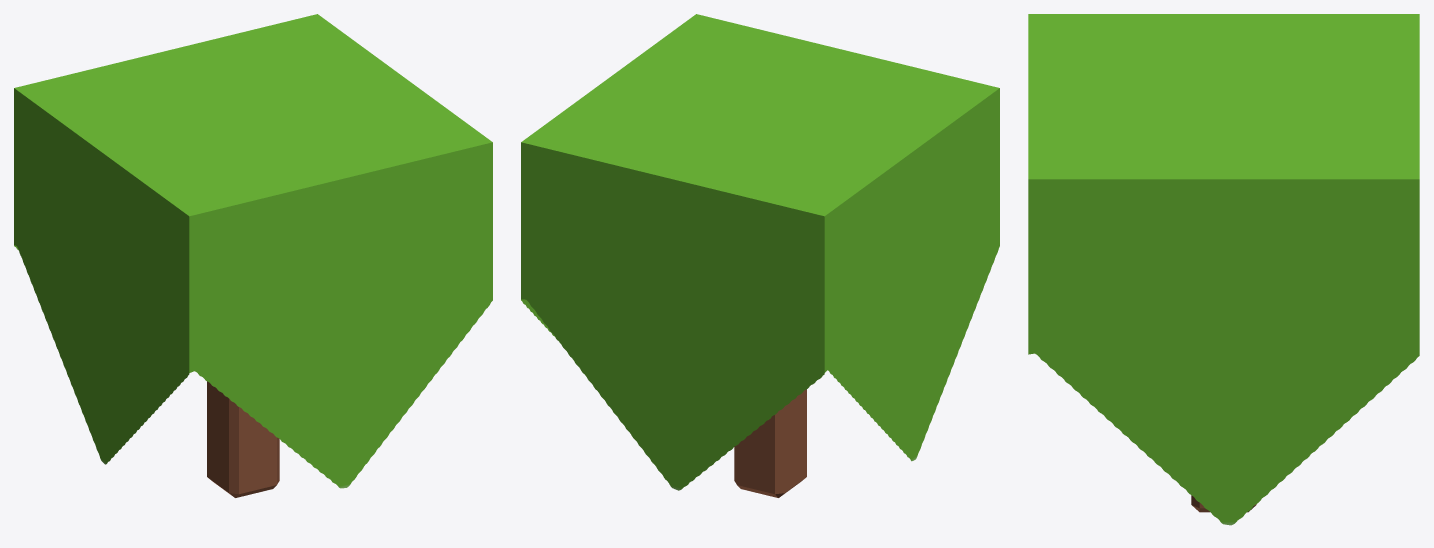
Rendered from Bush 1.fbx.
3 views of the same model, side by side, from view 1: azimuth 30°, elevation 25°; view 2: azimuth 150°, elevation 25°; view 3: azimuth 270°, elevation 25° (orthographic). The views are drawn at different scales.
Visible parts, largest first — view 1: Bush_1, Trunk; view 2: Bush_1, Trunk; view 3: Bush_1.
Boxes of the visible parts, box(x1,y1,x2,y2) form: Bush_1: box(14, 14, 492, 488); Trunk: box(207, 381, 279, 497); Bush_1: box(521, 14, 999, 490); Trunk: box(734, 389, 806, 497); Bush_1: box(1028, 14, 1419, 525).
Size of the model in its own units: 0.6 by 0.695 by 0.6.
